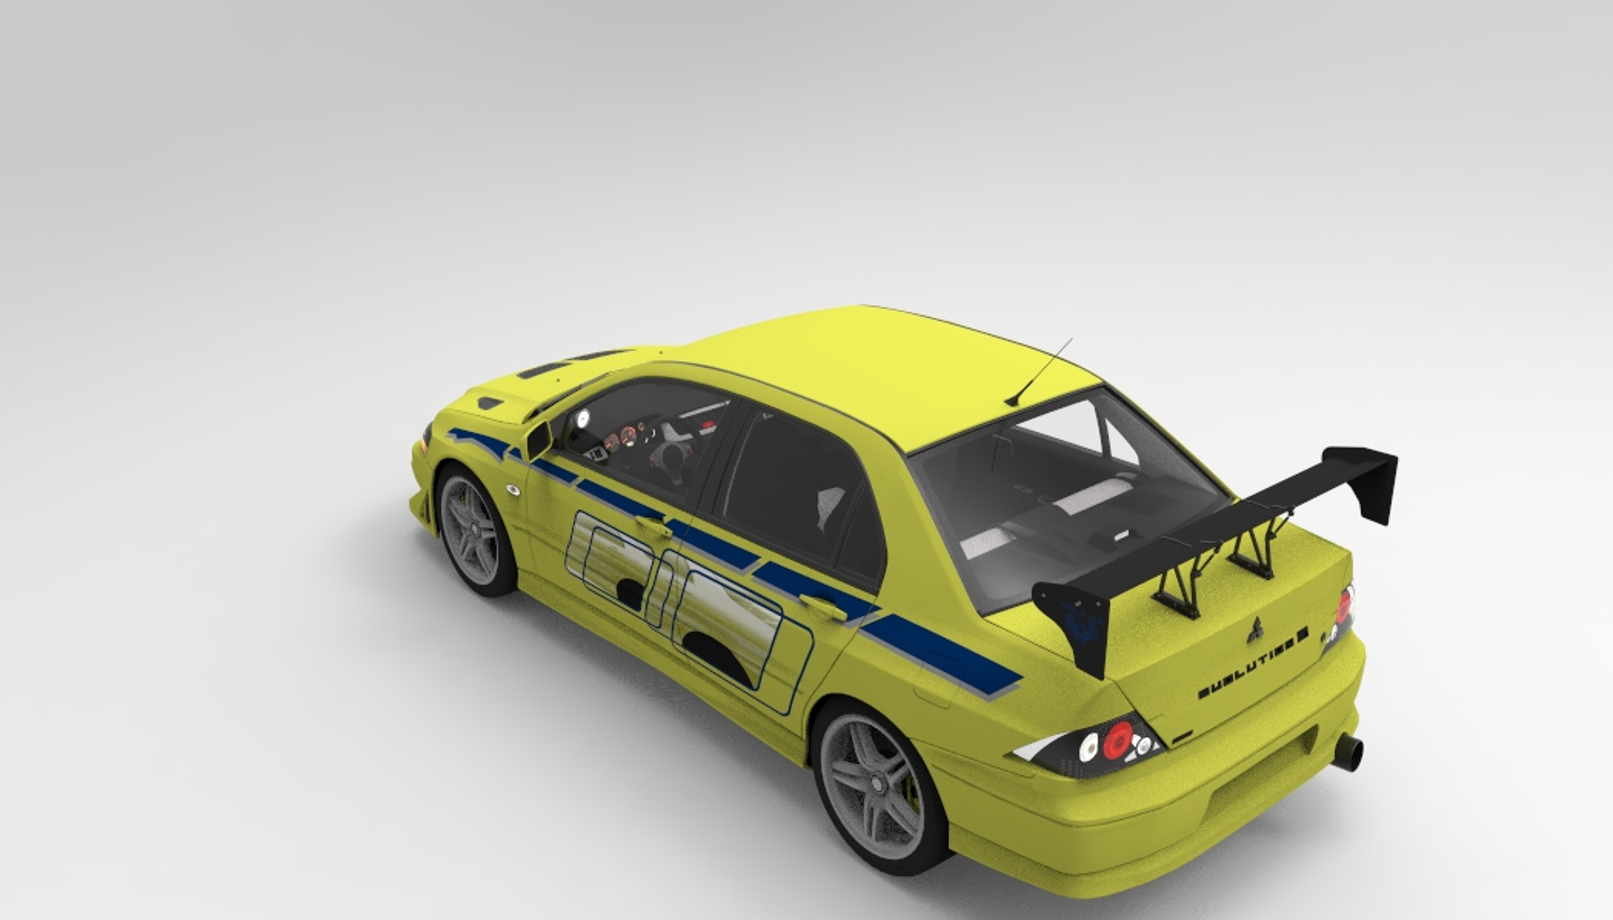hatch: (910, 648, 970, 715)
